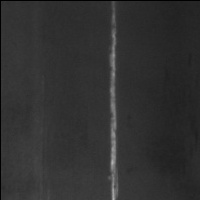scratches: (103, 1, 122, 200)
